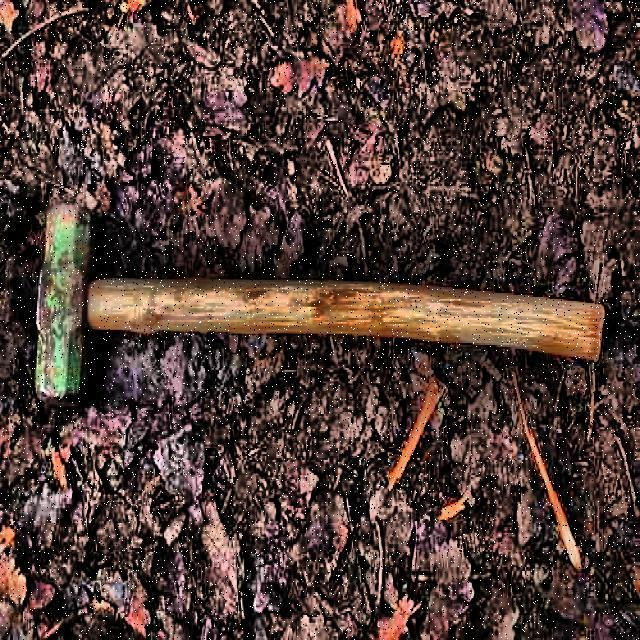hammer: (36, 201, 608, 412)
